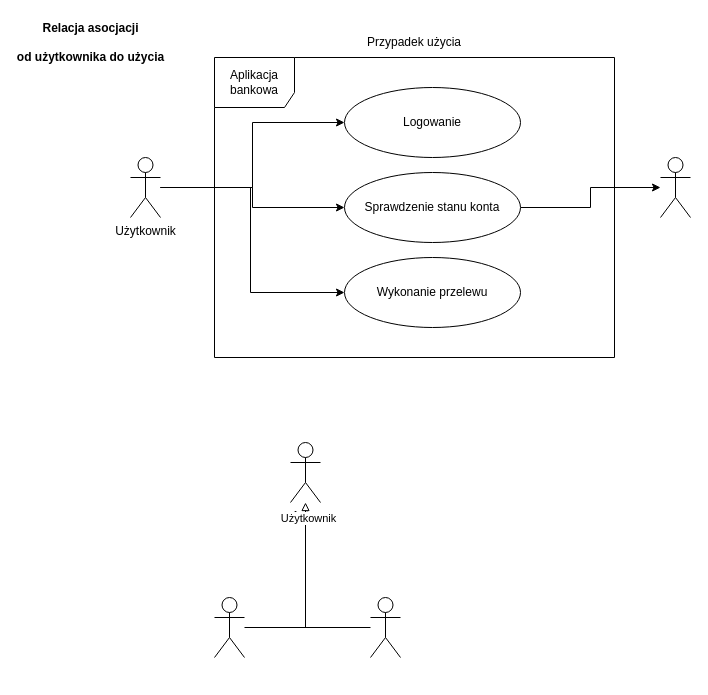
Some shapes in this 708 by 695 pixel diagram are drawn without their labels. The centre of each missing label's shape, as x and y in pixels:
"Bank" goes at point (675, 187).
"Użytkownik premium" goes at point (229, 627).
"Użytkownik zwykły" goes at point (385, 627).
